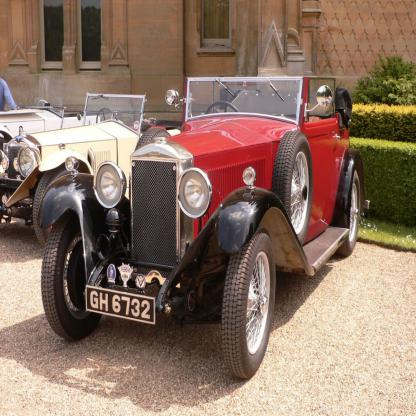Car: (36, 76, 370, 381), (0, 92, 182, 249), (0, 100, 100, 176)
